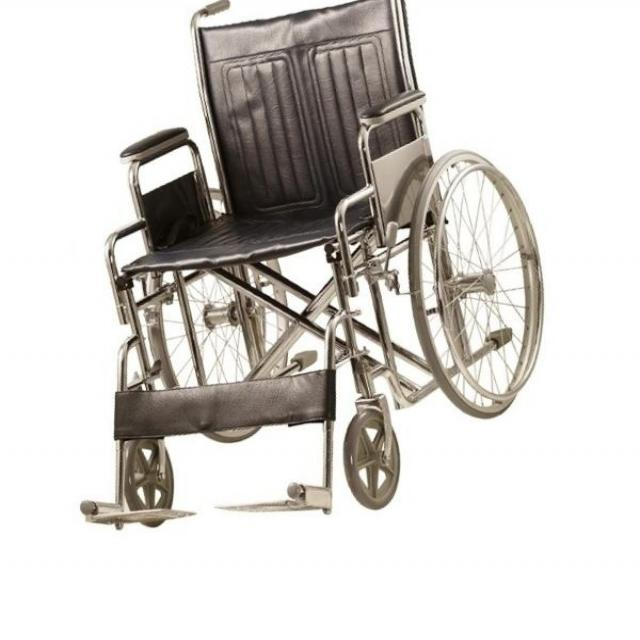wheelchair: (71, 4, 558, 535)
